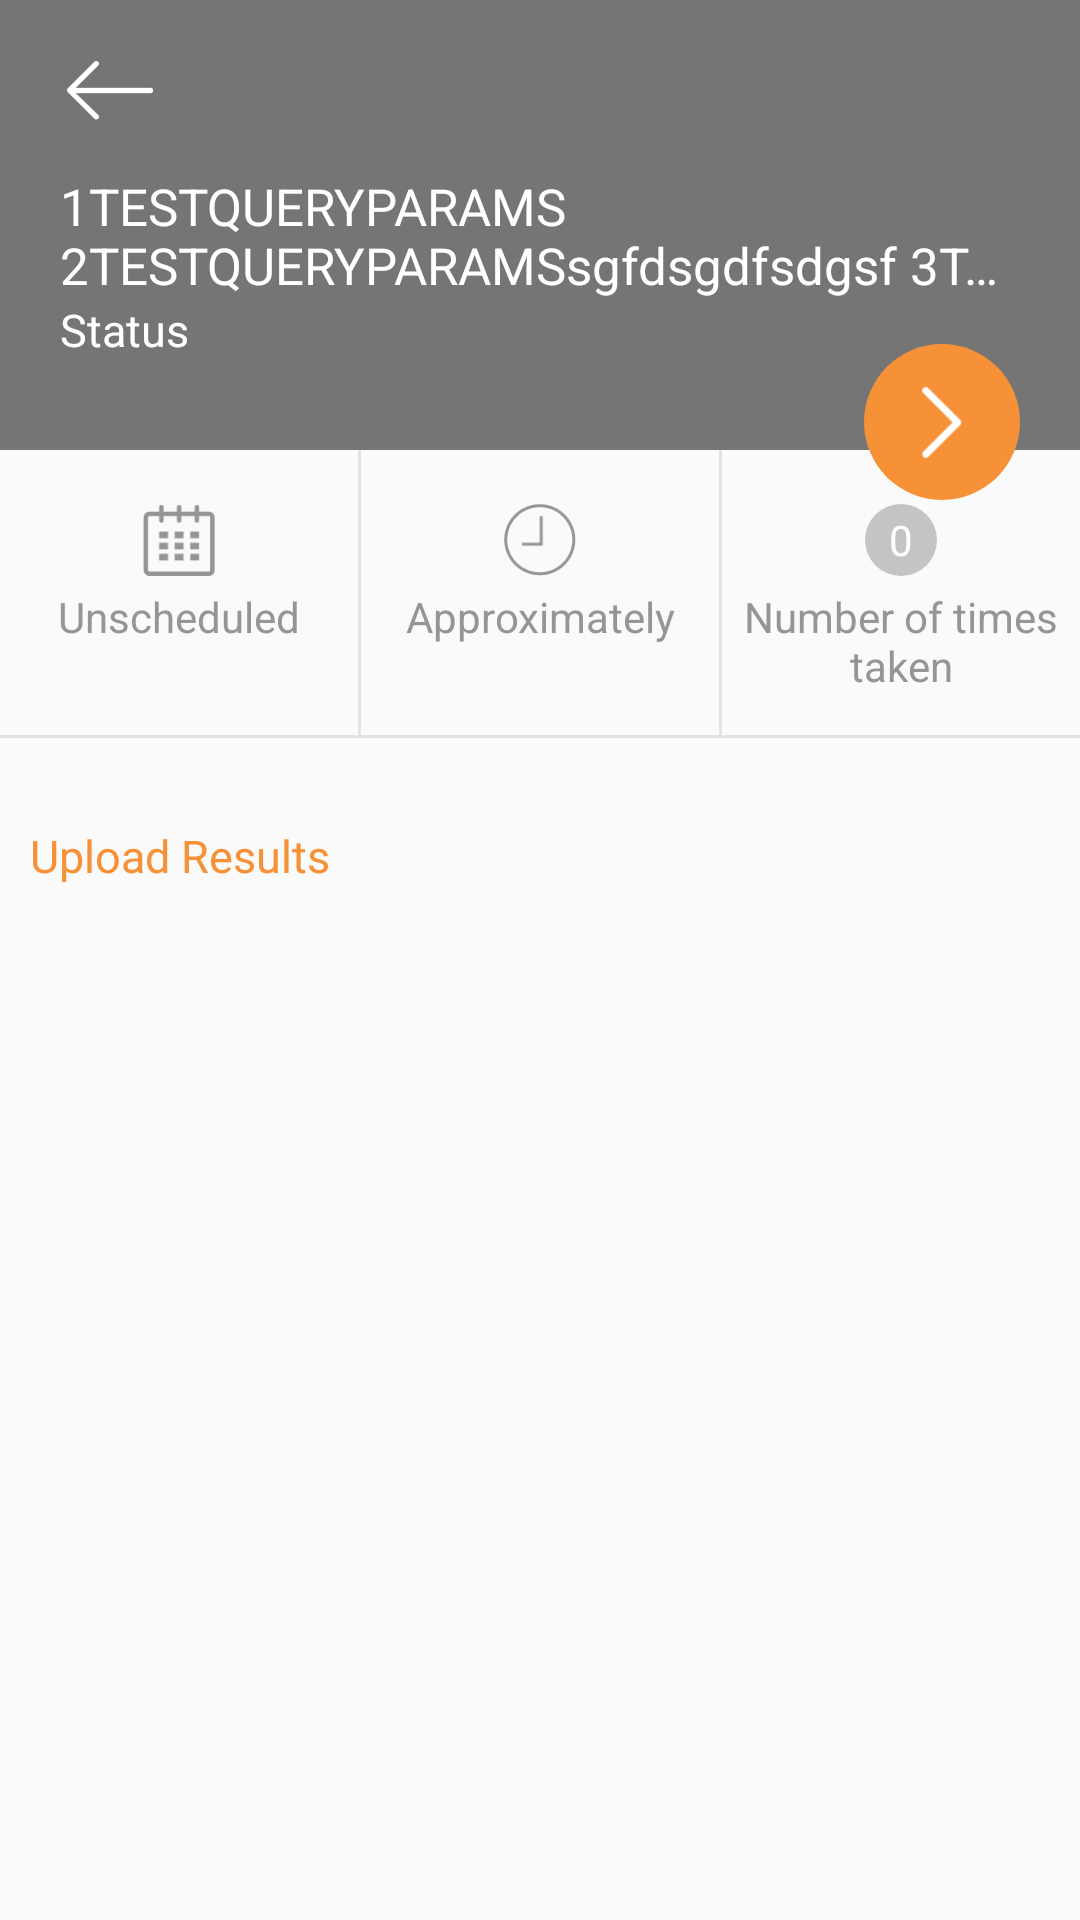

Where icons sit on this 1080×1920 app screen, as (x1, y1, x2, y2):
approx time: (504, 504, 576, 576)
calendar: (143, 505, 215, 576)
